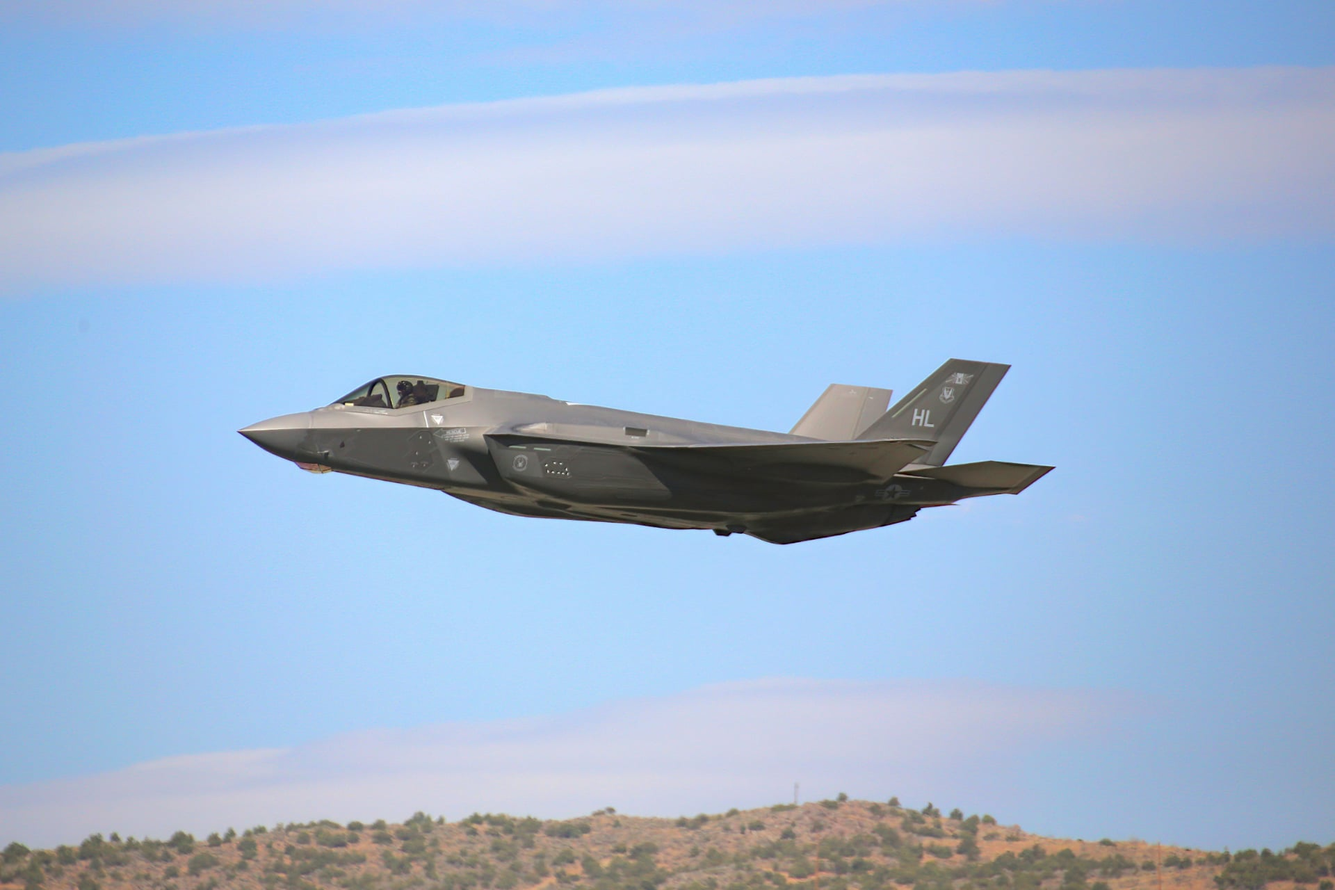F35: (232, 353, 1059, 552)
